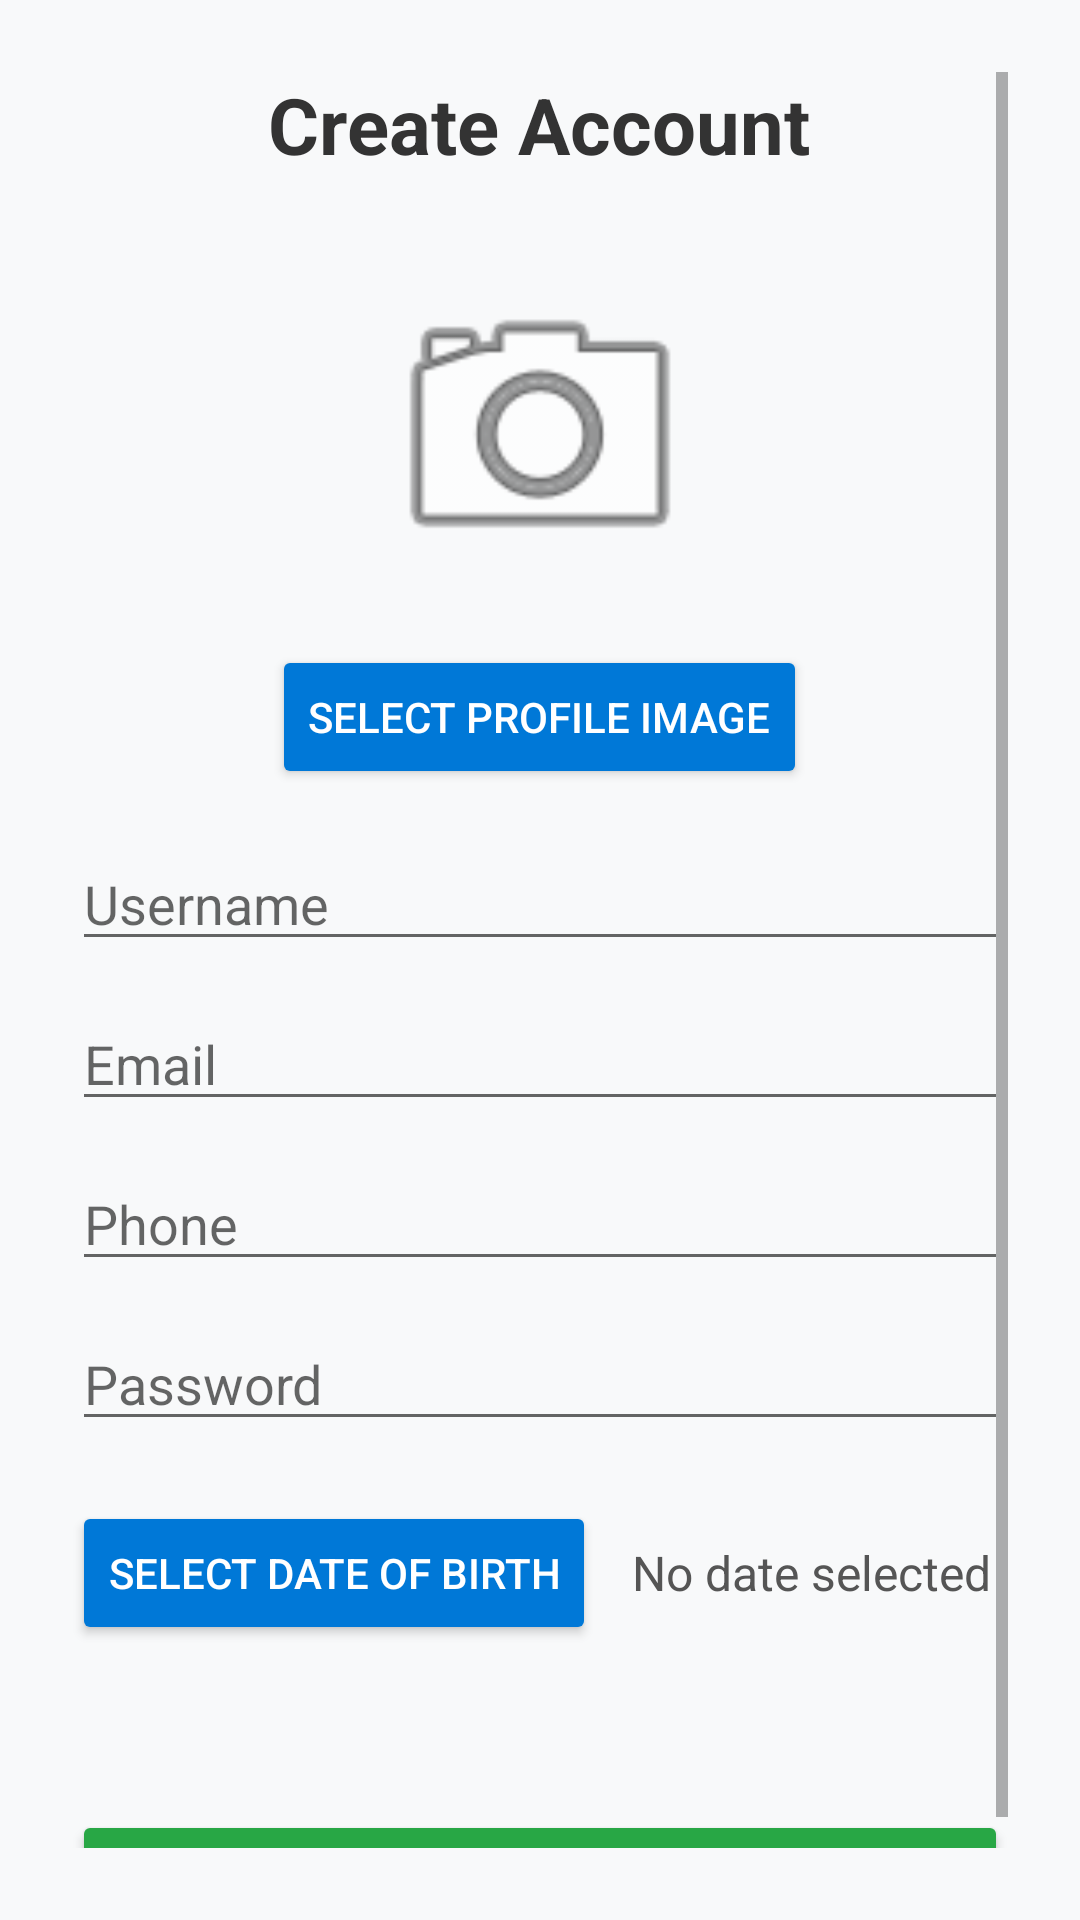

Screen size 1080px×1920px. Icon name, then its box in pixels as (x1, y1, x2, y2):
camera: (410, 320, 670, 527)
